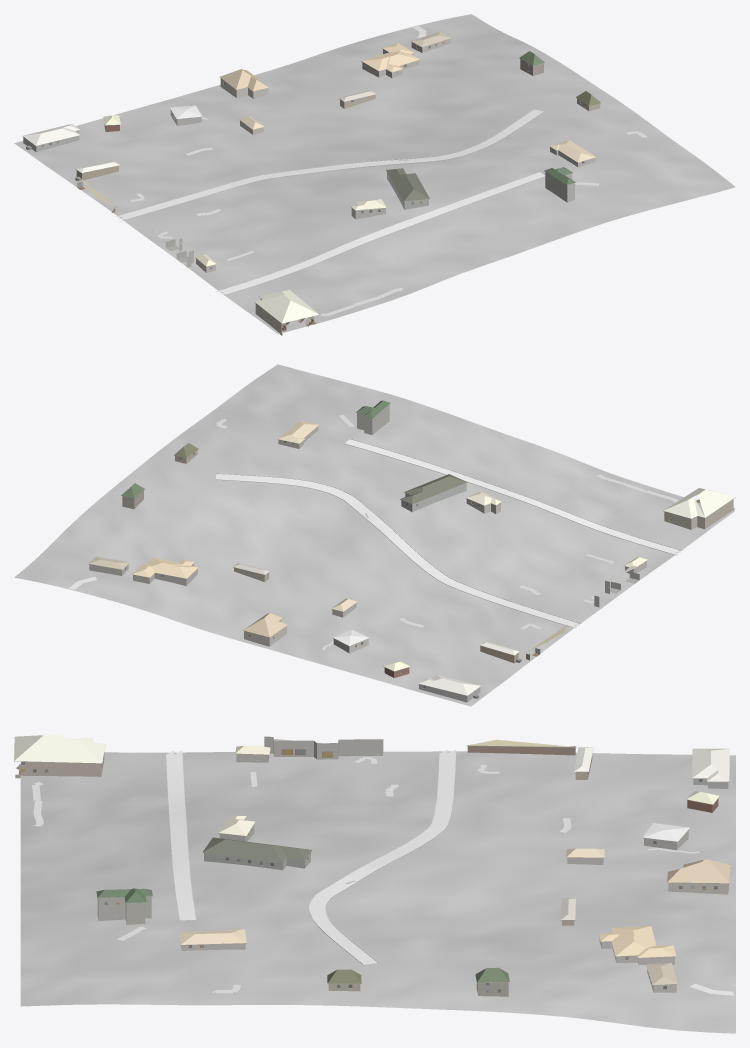
3 renders of one model, top to bottom at view 1: azimuth 30°, elevation 25°; view 2: azimuth 150°, elevation 25°; view 3: azimuth 270°, elevation 25°, orthographic. The views are drawn at different scales.
Visible parts, largest first — view 1: ground, roof, concrete, wall_stucco, curb, wall_stone, wall, walk, detail; view 2: ground, roof, concrete, wall_stucco, wall_stone, curb, wall, detail, walk; view 3: ground, roof, concrete, wall_stucco, wall_stone, wall, wall_com, detail, walk, curb.
Boxes of the visible parts, x1=… form: ground: x1=14, y1=14, x2=735, y2=334; roof: x1=22, y1=31, x2=600, y2=323; concrete: x1=115, y1=26, x2=545, y2=294; wall_stucco: x1=23, y1=78, x2=574, y2=335; curb: x1=118, y1=109, x2=545, y2=295; wall_stone: x1=170, y1=39, x2=595, y2=272; wall: x1=76, y1=59, x2=600, y2=212; walk: x1=130, y1=113, x2=647, y2=316; detail: x1=22, y1=38, x2=600, y2=325; ground: x1=14, y1=364, x2=734, y2=706; roof: x1=88, y1=400, x2=735, y2=695; concrete: x1=68, y1=439, x2=681, y2=628; wall_stucco: x1=244, y1=404, x2=734, y2=702; wall_stone: x1=89, y1=426, x2=646, y2=653; curb: x1=216, y1=439, x2=681, y2=628; wall: x1=122, y1=450, x2=529, y2=677; detail: x1=88, y1=403, x2=735, y2=698; walk: x1=216, y1=415, x2=678, y2=650; ground: x1=20, y1=751, x2=735, y2=1033; roof: x1=14, y1=735, x2=730, y2=985; concrete: x1=166, y1=749, x2=734, y2=995; wall_stucco: x1=15, y1=753, x2=728, y2=924; wall_stone: x1=181, y1=754, x2=688, y2=992; wall: x1=328, y1=746, x2=718, y2=996; wall_com: x1=264, y1=736, x2=383, y2=759; detail: x1=14, y1=744, x2=730, y2=992; walk: x1=32, y1=756, x2=699, y2=993; curb: x1=165, y1=750, x2=456, y2=964.
Bounding box in the file's own units: 252 × 30.75 × 252.
